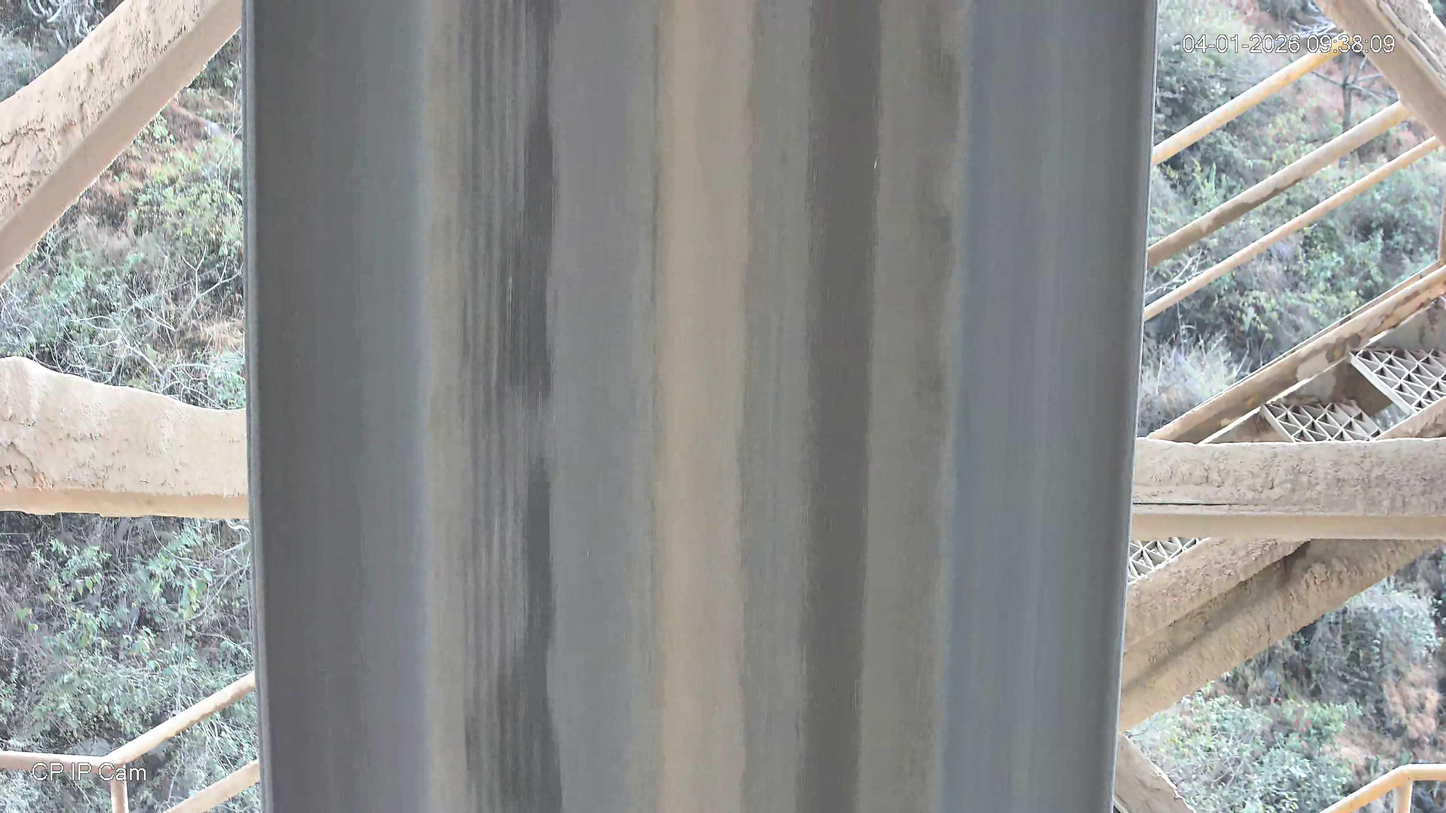belt_roi: (241, 0, 1158, 813)
